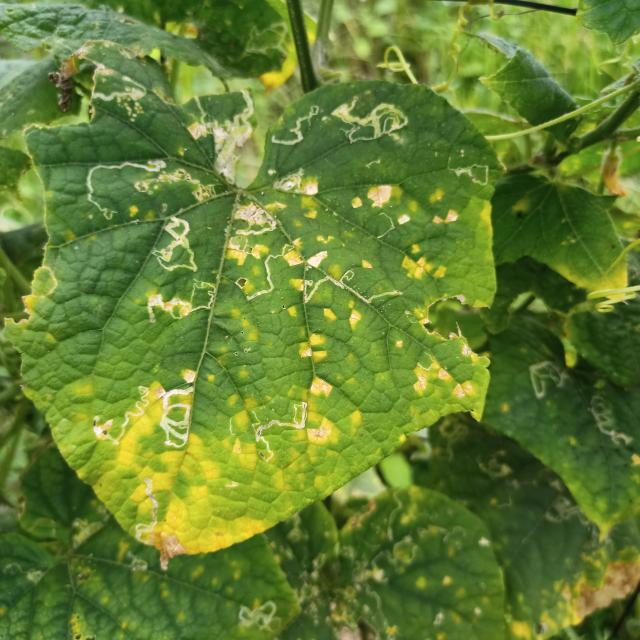disease_cucumber: (268, 163, 484, 460), (59, 348, 344, 562)
